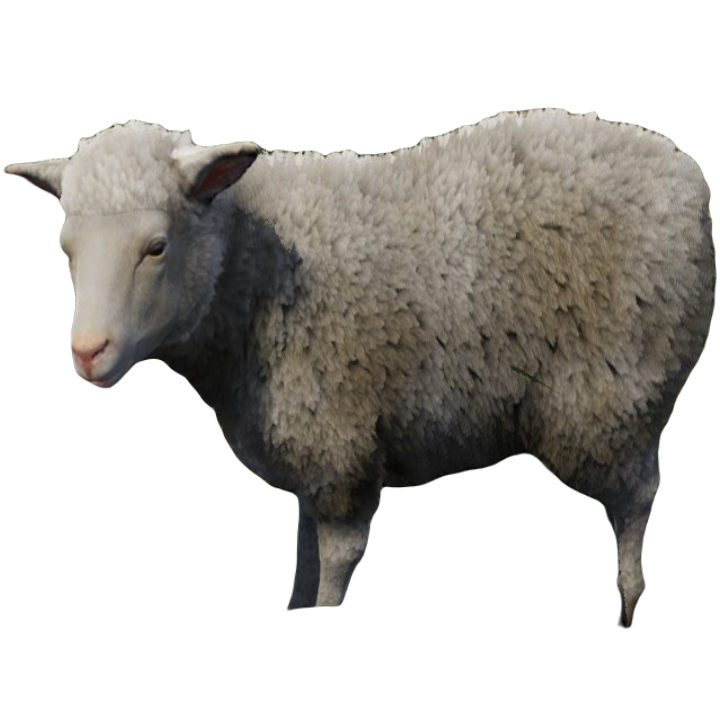Sheep: (2, 104, 717, 638)
